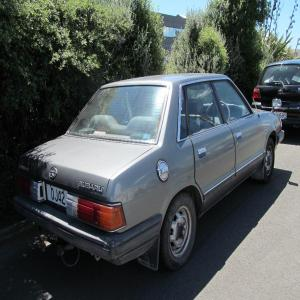Vehicle-registration-plate: (47, 185, 69, 208), (277, 112, 288, 125)
